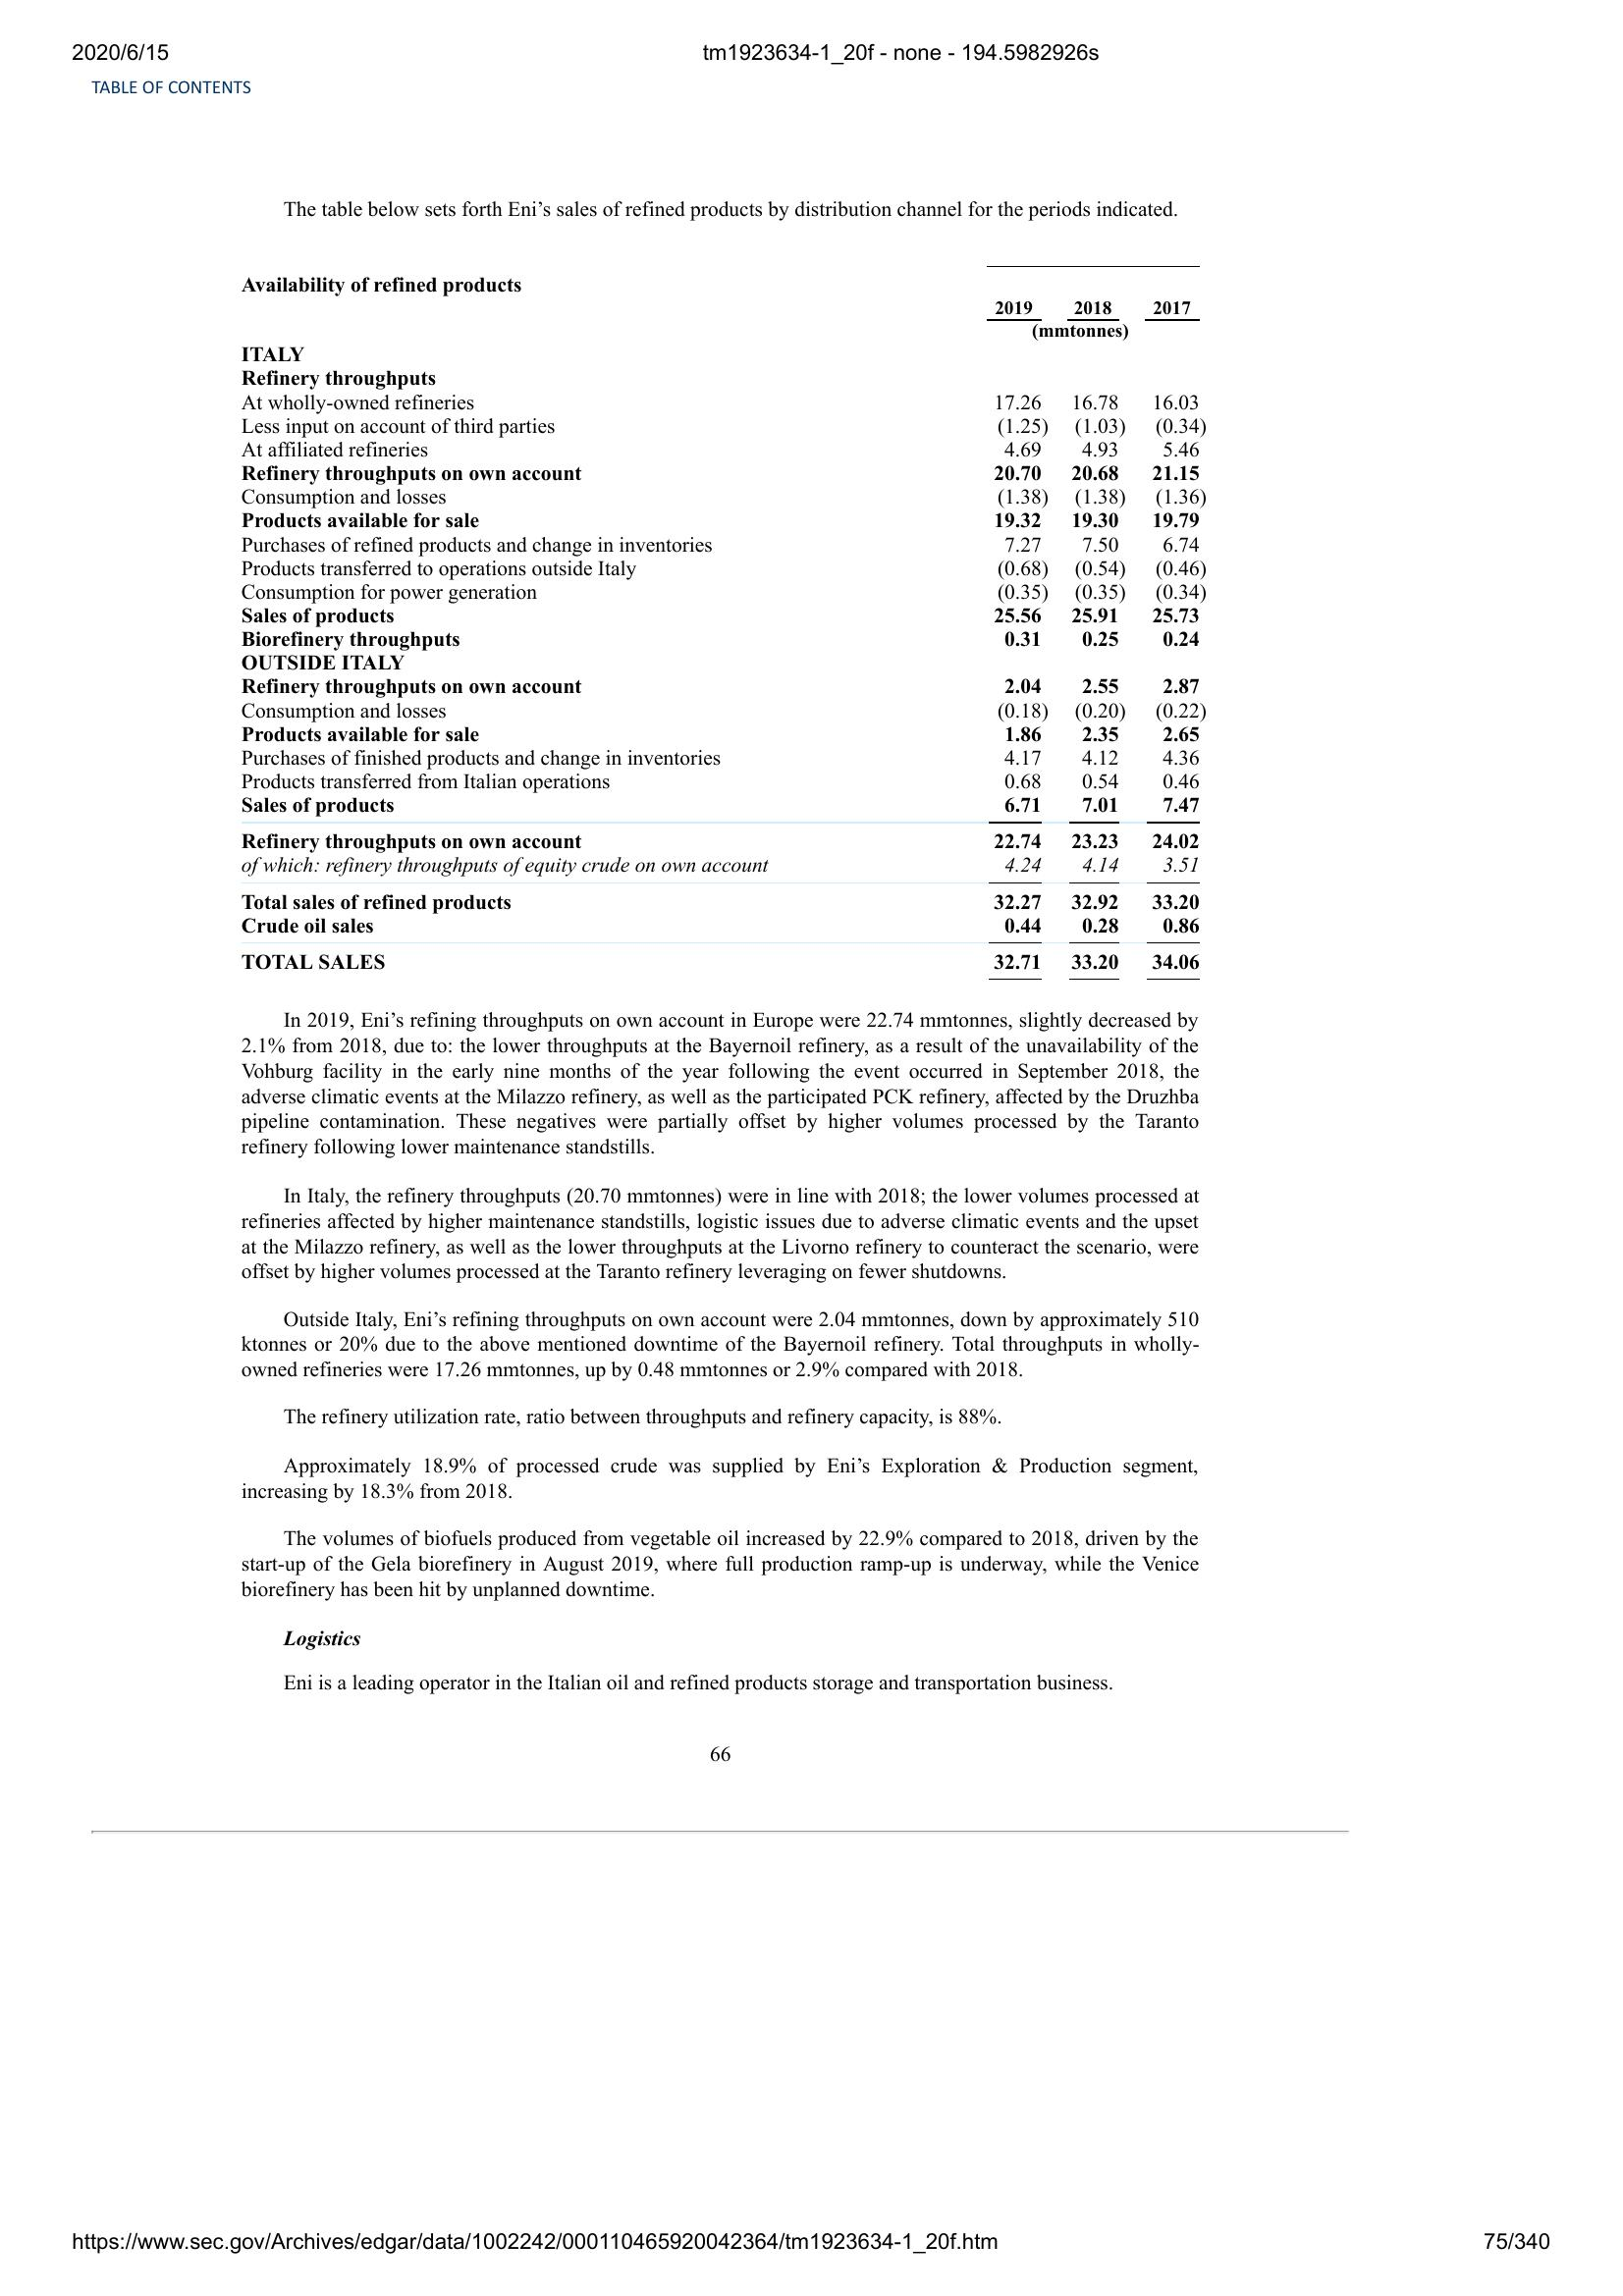table: (232, 298, 1215, 990)
